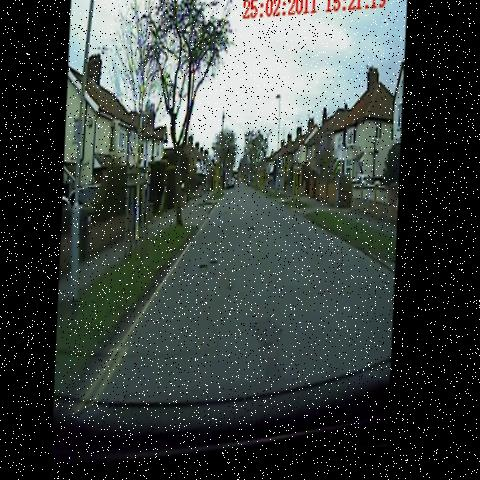pothole: (256, 323, 285, 379), (195, 256, 223, 282), (225, 278, 243, 309), (216, 207, 233, 231), (243, 221, 259, 241), (236, 201, 246, 224)
